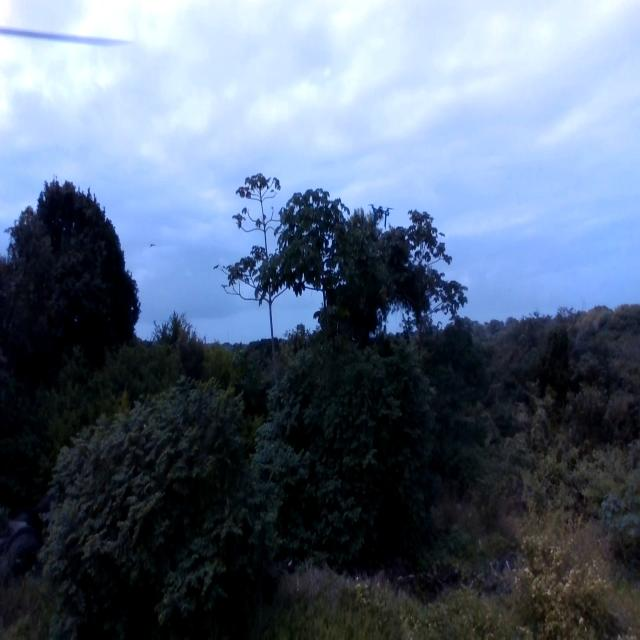-uav-: (366, 199, 395, 239)
